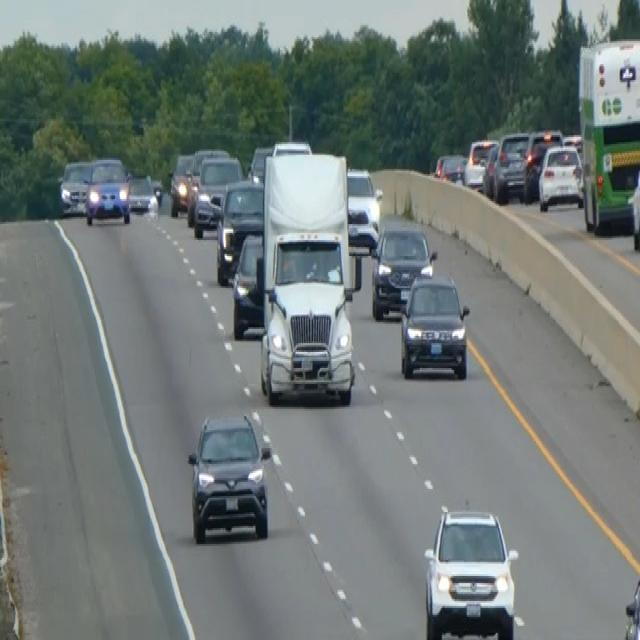bus: (576, 36, 639, 234)
car: (422, 502, 519, 636), (186, 409, 272, 544), (398, 268, 470, 381), (370, 217, 434, 320), (214, 176, 264, 284), (192, 153, 244, 238), (231, 231, 264, 340), (84, 154, 131, 226), (185, 146, 229, 220), (537, 142, 583, 212), (345, 164, 382, 250), (522, 128, 563, 201), (493, 130, 530, 202), (58, 157, 92, 215), (168, 151, 195, 217), (464, 137, 497, 190), (127, 169, 158, 215), (434, 151, 466, 185), (481, 140, 500, 196), (247, 142, 272, 183), (628, 164, 639, 250)
lorry: (258, 150, 361, 406)
